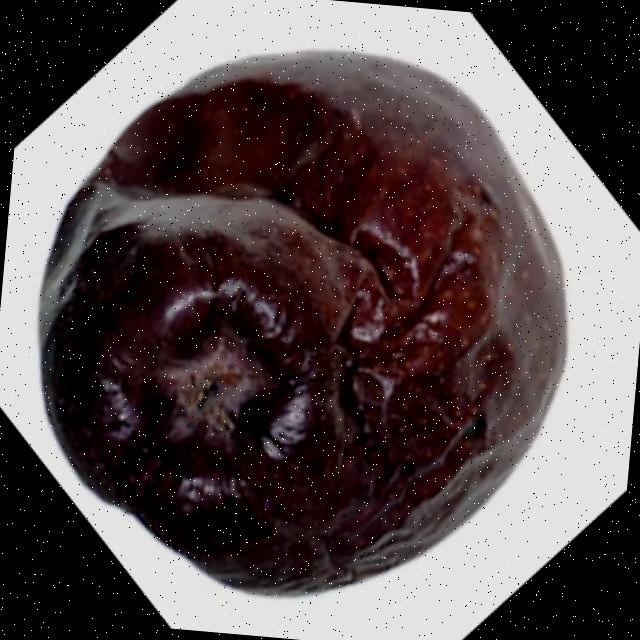Rotten: (1, 27, 594, 628)
